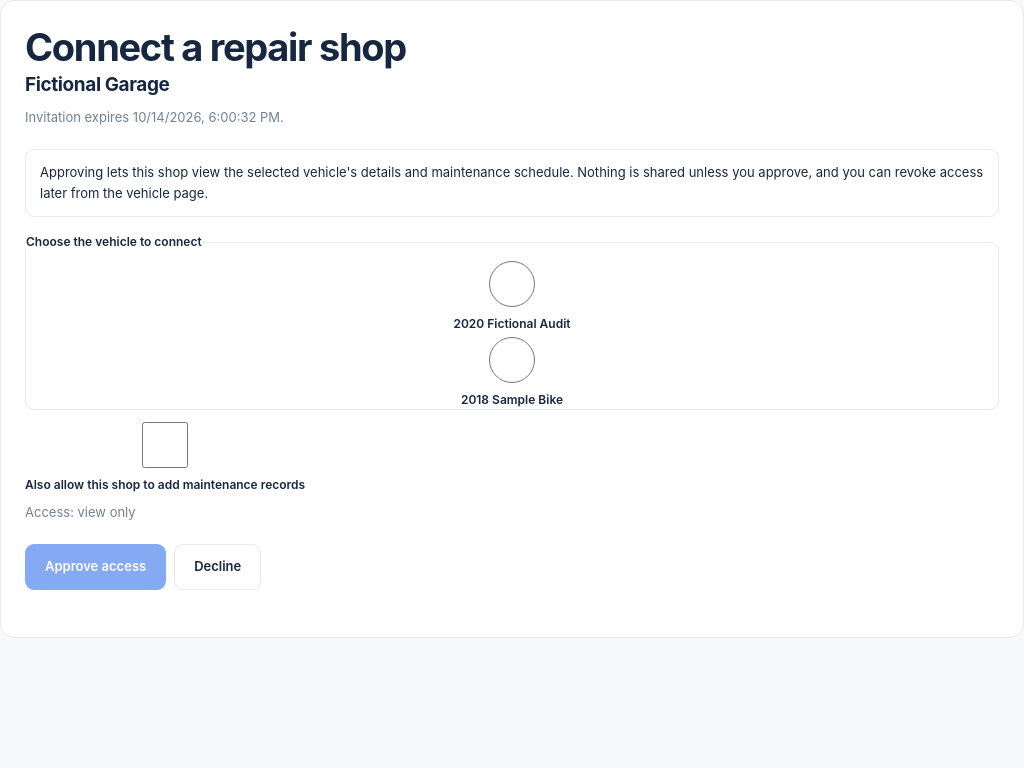
Test: declines without selecting a vehicle
Expected: the heading "Fictional Garage" is shown, top-left (25, 73), bottom-right (170, 96)
Click the button "Decline".
click(218, 567)  # box top-left (174, 544), bottom-right (261, 590)
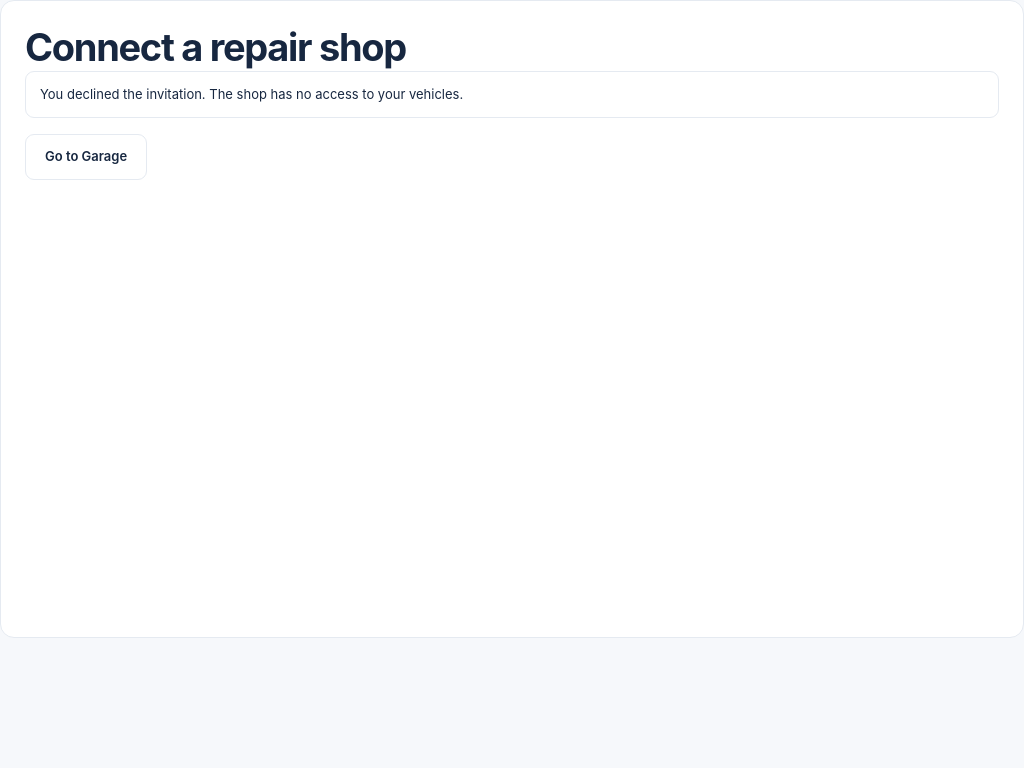
Expected: the text "You declined the invitation. The shop has no access to your vehicles." is shown, top-left (25, 71), bottom-right (999, 118)
